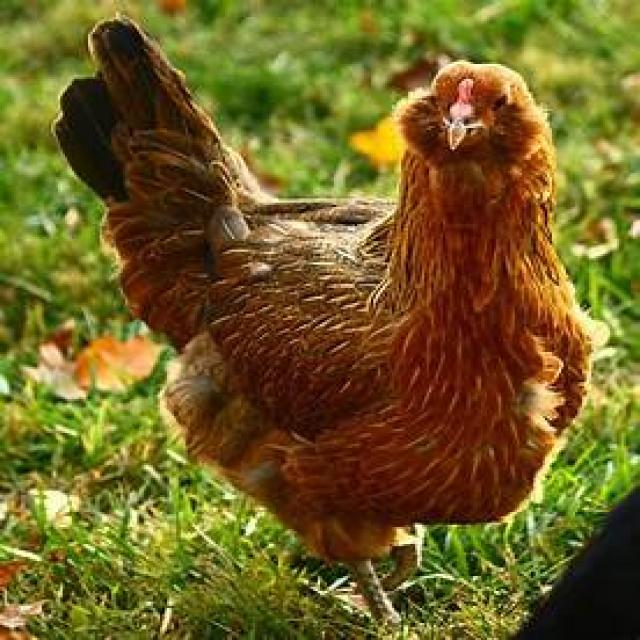hen: (51, 19, 610, 595)
